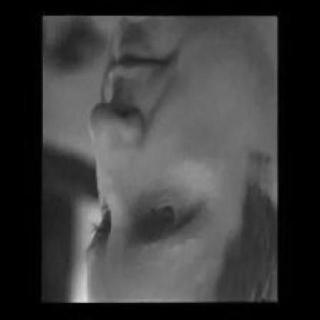other: (132, 142, 234, 192)
